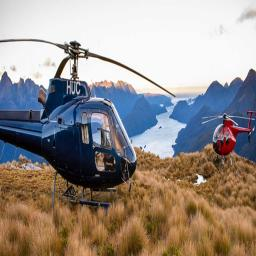helicopter: (1, 21, 144, 236), (200, 90, 255, 176)
